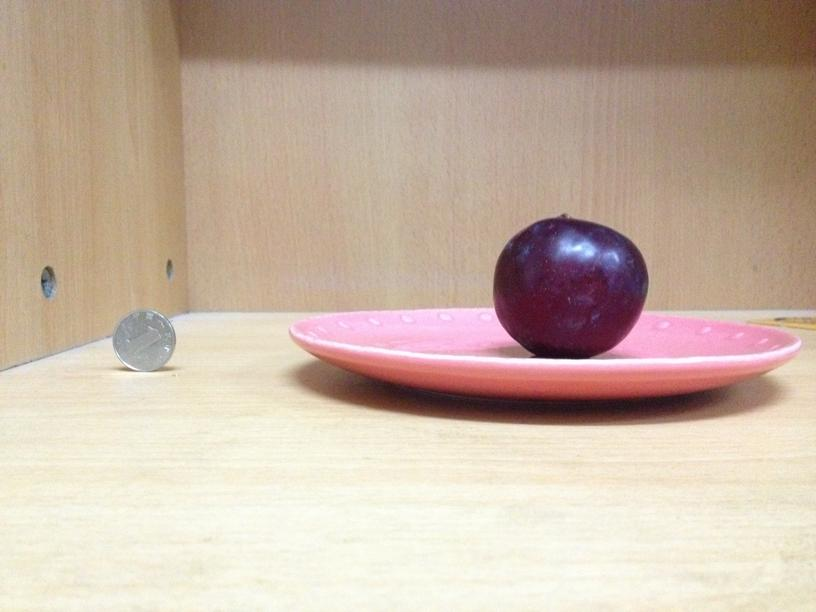coin: (112, 308, 175, 375)
plum: (498, 219, 649, 355)
